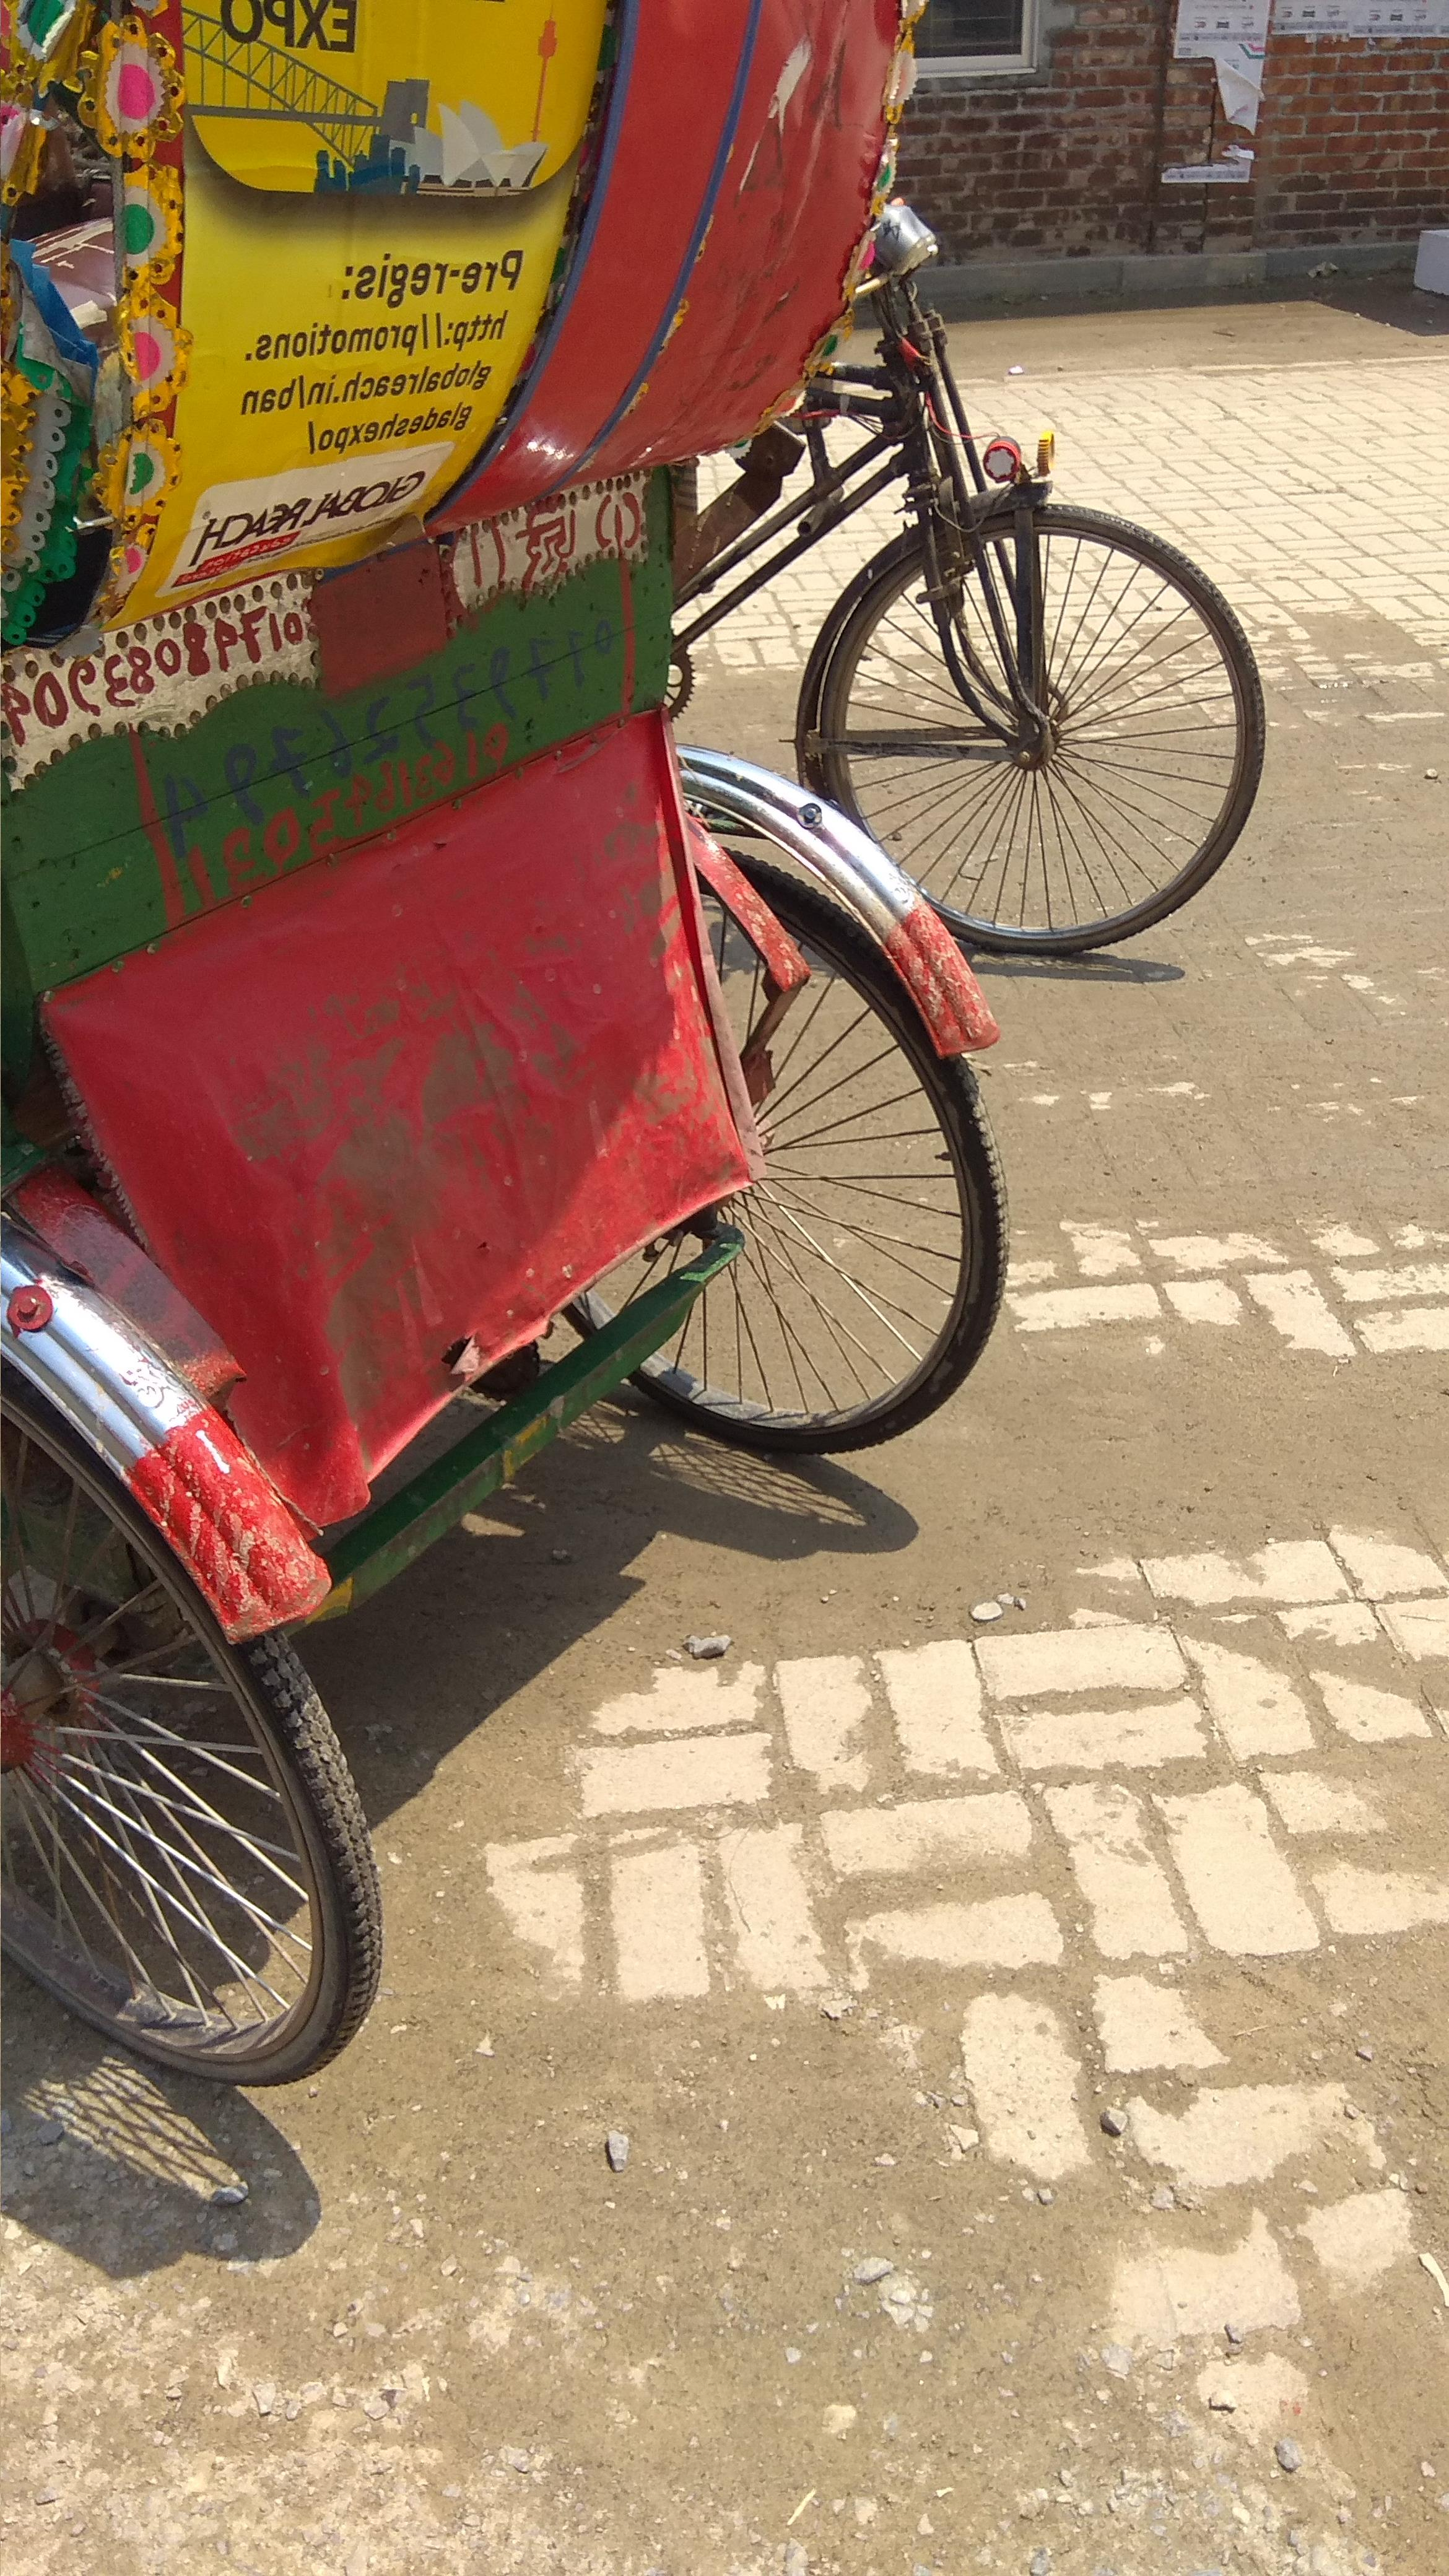Rickshaw: (4, 7, 977, 2038)
